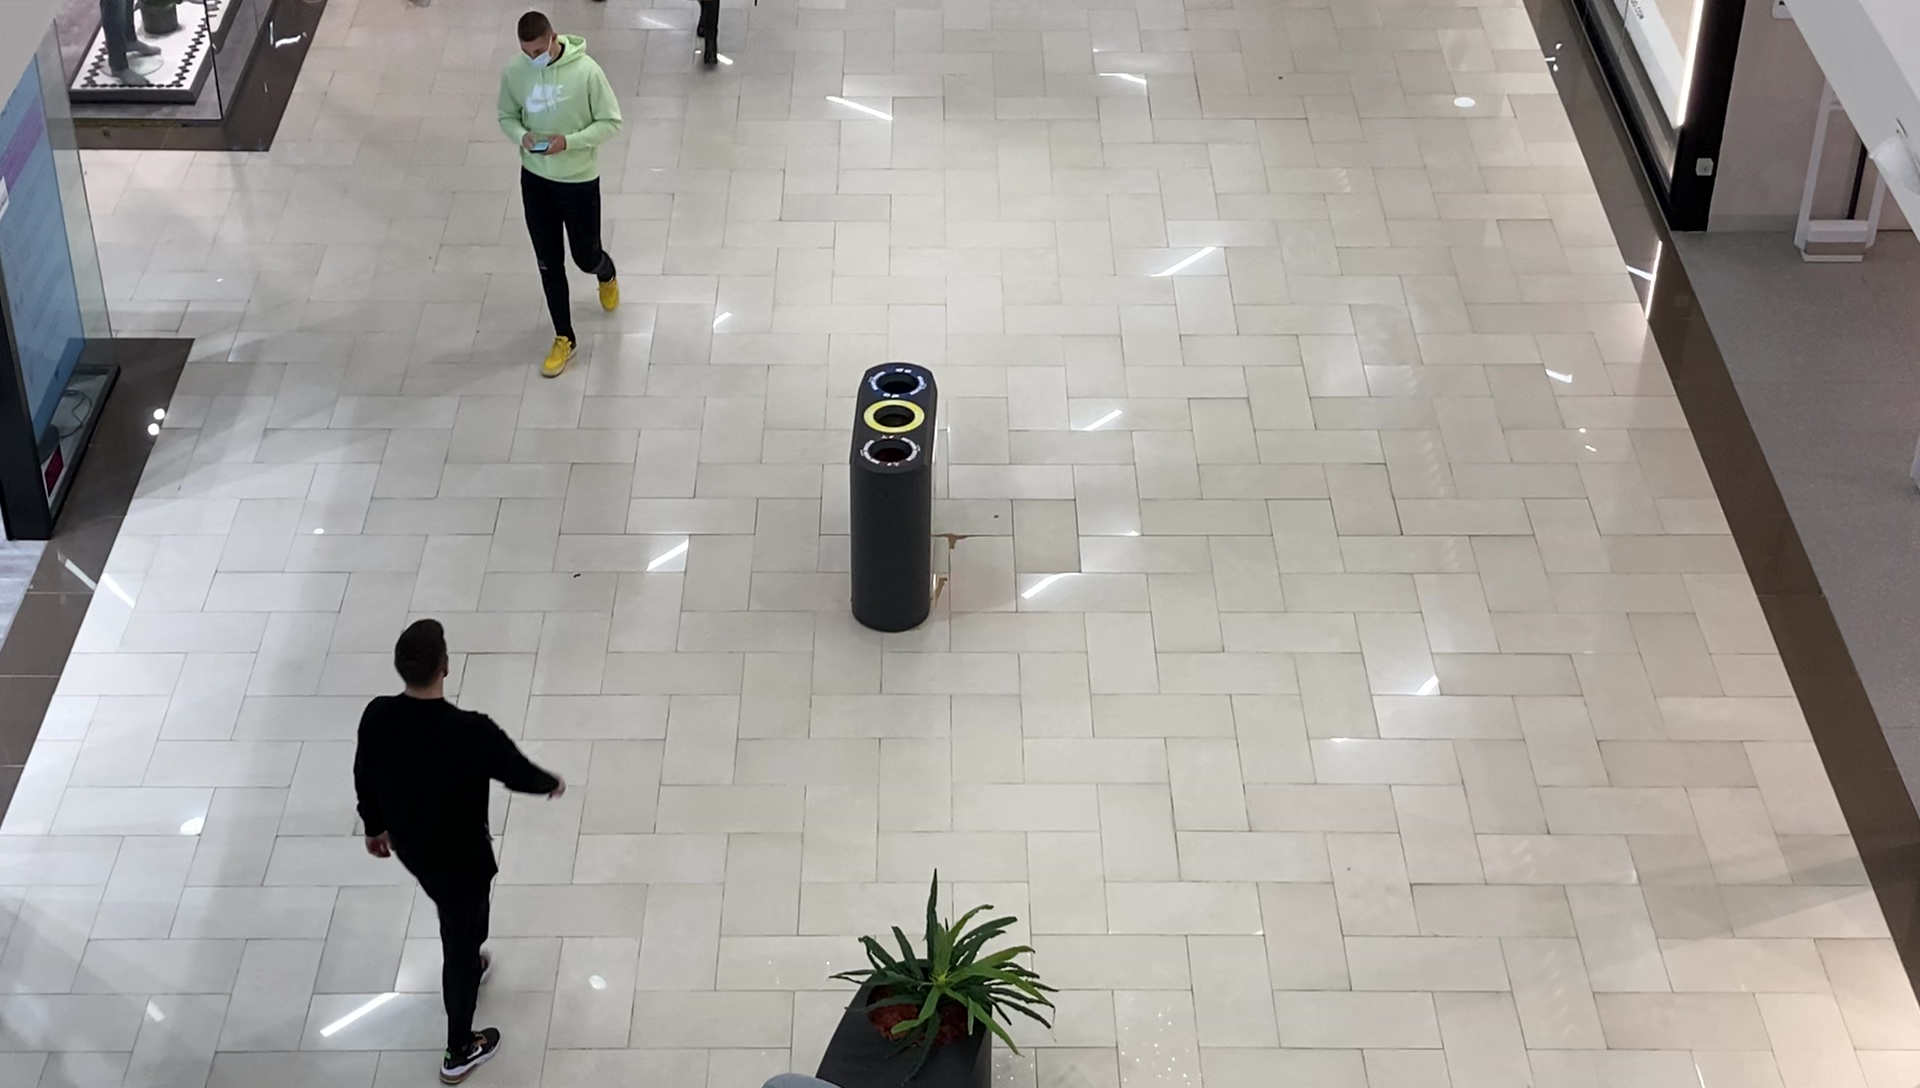person: (353, 617, 569, 1085), (496, 9, 626, 378)
